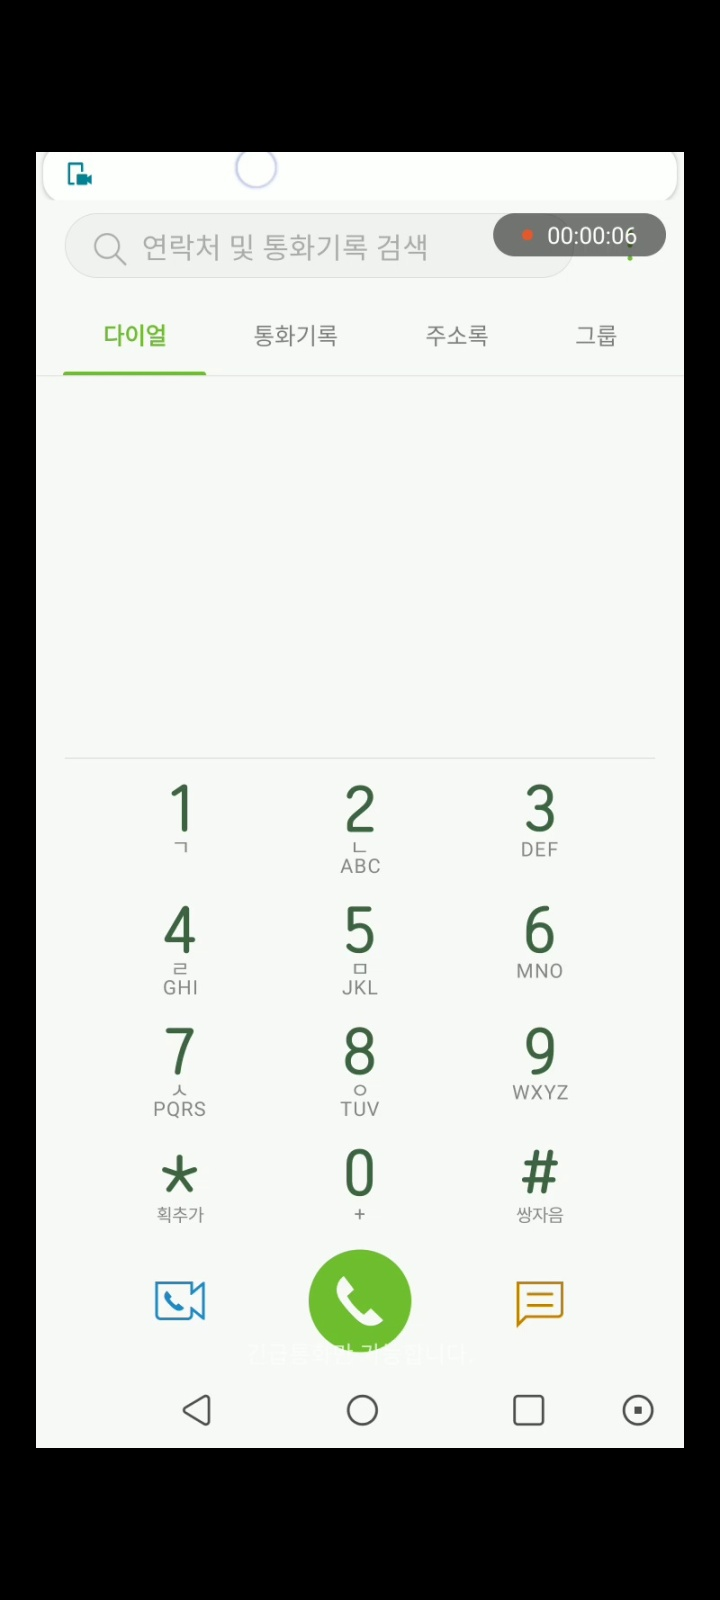Cursor: (235, 153, 280, 190)
